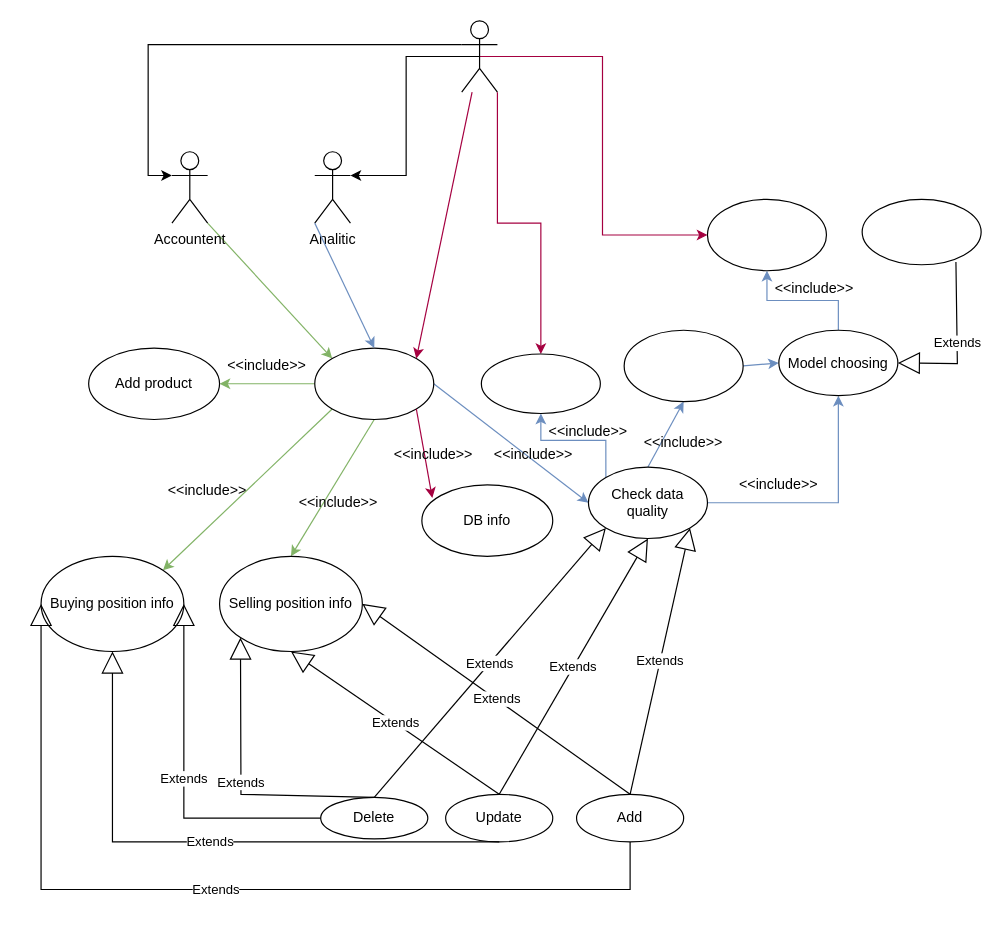
The diagram is 1002 pixels wide and 932 high, and some of its shapes have lost their labels. Each missing label, with the centre of its shape:
"Analitic of previous periods. Graphics" belongs at (x=540, y=383).
"Chief" belongs at (x=479, y=56).
"Data Warehous" belongs at (x=374, y=383).
"Hyperparametr tuning" belongs at (x=921, y=231).
"Normalization of data" belongs at (x=683, y=365).
"Prediction of feature values" belongs at (x=766, y=234).
